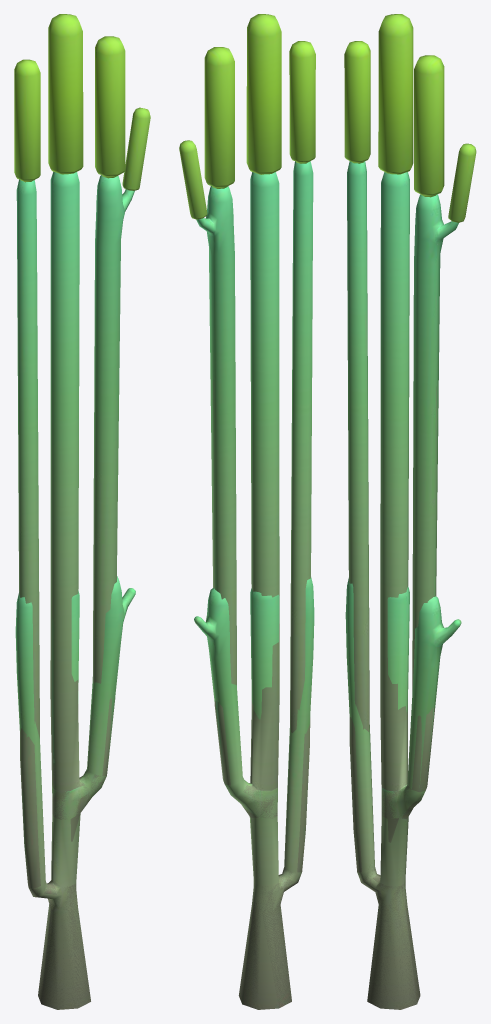
Rendered from Give.fbx.
3 renders of one model, left to right at view 1: azimuth 30°, elevation 25°; view 2: azimuth 210°, elevation 25°; view 3: azimuth 330°, elevation 25°, orthographic.
Visible parts, largest first — view 1: Give_Body2, Give_Body, Give; view 2: Give_Body2, Give_Body, Give; view 3: Give_Body2, Give_Body, Give.
Part boxes in pixels (box(x1,y1,x2,y2)): Give_Body2: box(16, 171, 134, 1009); Give_Body: box(15, 576, 135, 1009); Give: box(14, 14, 150, 190); Give_Body2: box(196, 161, 313, 1008); Give_Body: box(194, 577, 314, 1009); Give: box(179, 14, 315, 219); Give_Body2: box(347, 161, 458, 1007); Give_Body: box(345, 578, 461, 1009); Give: box(344, 14, 476, 222).
Bounding box in the file's own units: 46.57 × 333 × 16.46.
